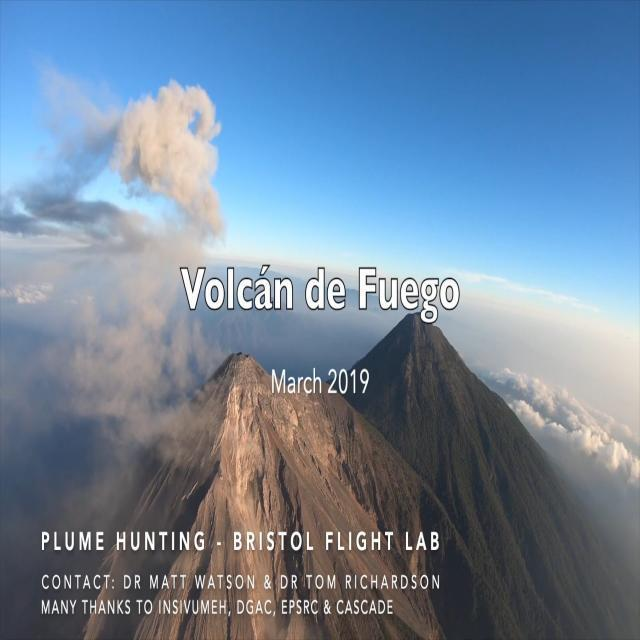Summit: (117, 339, 337, 528)
